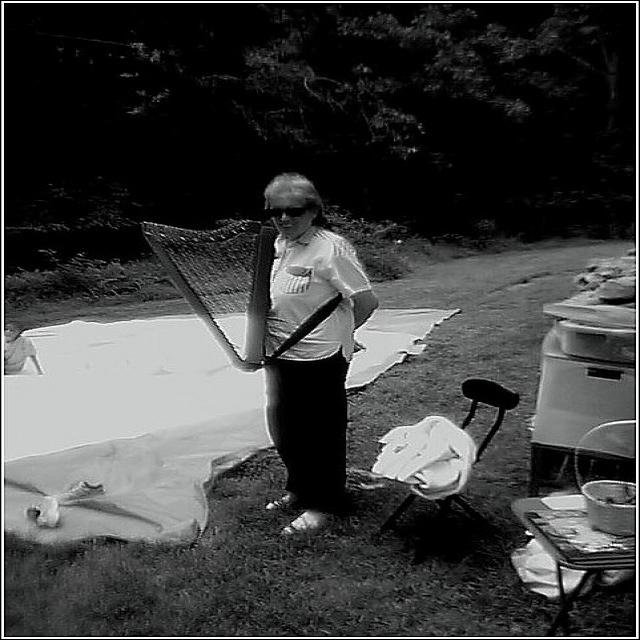harp: (132, 208, 288, 375)
